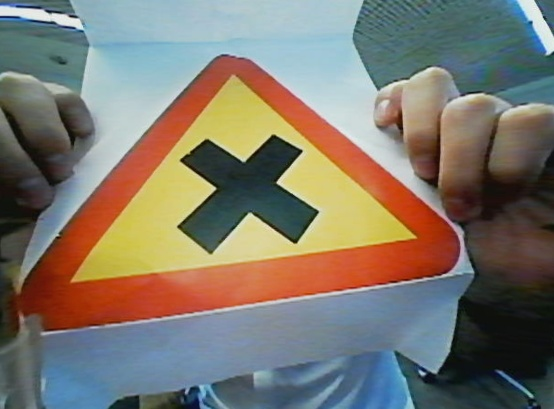junction: (9, 52, 465, 312)
